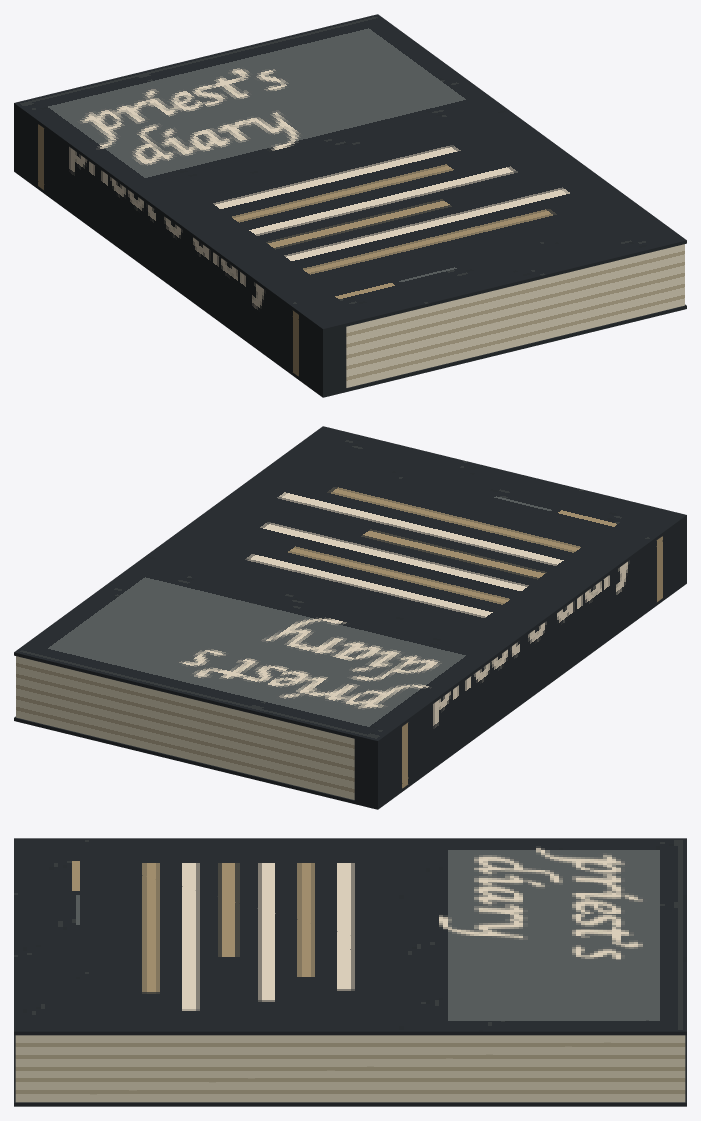
The model's file is priest_diary.glb.
3 views of the same model, one above another, from view 1: azimuth 30°, elevation 25°; view 2: azimuth 150°, elevation 25°; view 3: azimuth 270°, elevation 25° (orthographic). The views are drawn at different scales.
Parts seen in each view (by area): view 1: block_front cover, block_page block, block_spine, block_back cover; view 2: block_front cover, block_page block, block_spine, block_back cover; view 3: block_front cover, block_page block, block_back cover.
Part boxes in pixels (x1,y1,x2,y2): block_front cover: [14, 14, 686, 332]; block_page block: [346, 244, 684, 387]; block_spine: [14, 106, 346, 394]; block_back cover: [14, 168, 686, 397]; block_front cover: [14, 426, 686, 744]; block_page block: [16, 656, 354, 799]; block_spine: [354, 518, 686, 806]; block_back cover: [14, 580, 686, 809]; block_front cover: [14, 838, 686, 1035]; block_page block: [15, 1035, 685, 1102]; block_back cover: [14, 1035, 686, 1106].
Size of the model in its own units: 0.1414 by 0.0255 by 0.208.
Materials: 1 (1 with a texture image).
